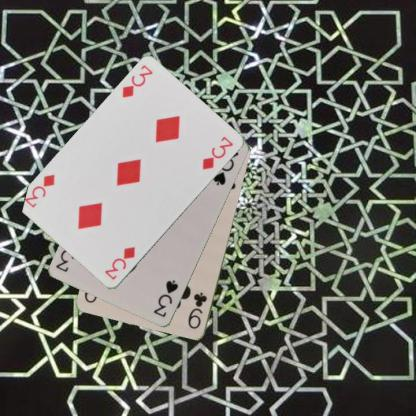3d: (119, 62, 154, 100), (102, 244, 136, 282)
3s: (150, 277, 180, 319)
9c: (186, 290, 208, 330)
